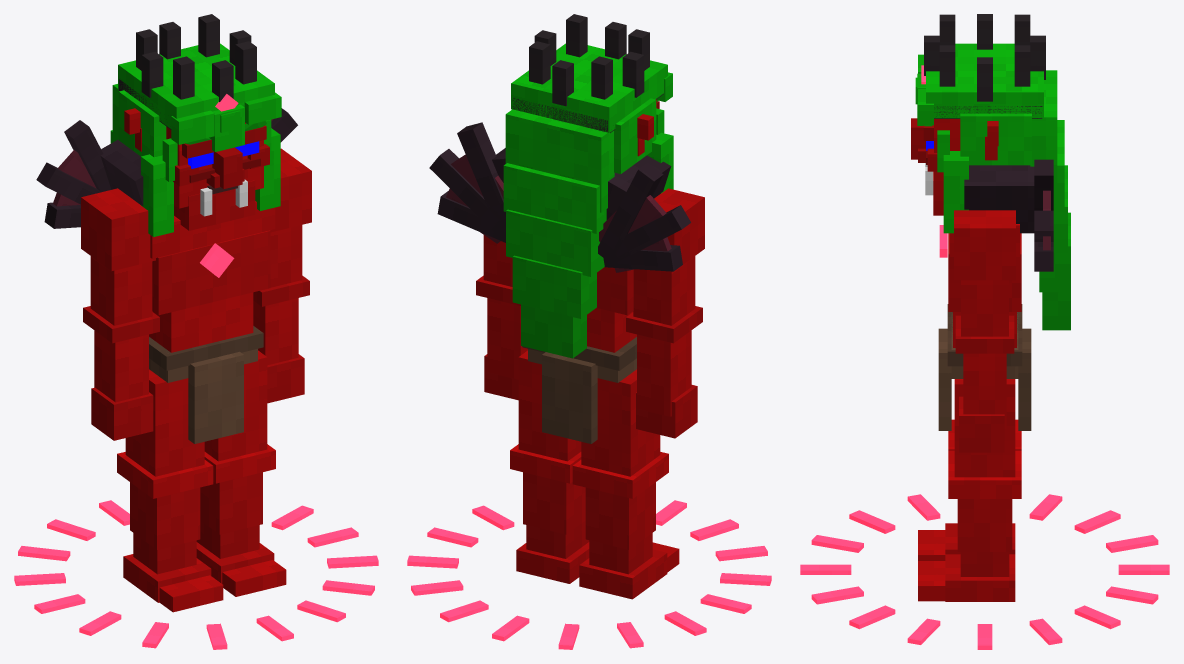
The model's file is vampire_s1_evo3.glb.
3 renders of one model, left to right at view 1: azimuth 30°, elevation 25°; view 2: azimuth 150°, elevation 25°; view 3: azimuth 270°, elevation 25°, orthographic.
Parts seen in each view (by area): view 1: Head, Torso, LegR, ArmR, LegL, ArmL, Root; view 2: Head, Torso, LegR, ArmR, LegL, Root, ArmL; view 3: Head, ArmL, LegL, Torso, Root, LegR.
Boxes of the visible parts, <box> form: Head: <box>110,14,281,236</box>; Torso: <box>36,108,297,443</box>; LegR: <box>117,369,223,612</box>; ArmR: <box>81,188,159,440</box>; LegL: <box>196,350,286,596</box>; ArmL: <box>253,148,311,403</box>; Root: <box>14,500,378,649</box>; Head: <box>503,14,673,358</box>; Torso: <box>429,122,690,443</box>; LegR: <box>572,369,679,599</box>; ArmR: <box>626,188,704,438</box>; LegL: <box>510,350,589,583</box>; Root: <box>407,500,771,649</box>; ArmL: <box>476,235,527,400</box>; Head: <box>911,14,1070,330</box>; ArmL: <box>954,210,1015,452</box>; LegL: <box>918,379,1021,601</box>; Torso: <box>938,159,1053,430</box>; Root: <box>800,494,1169,649</box>; LegR: <box>918,419,1021,560</box>.
Size of the model in its own units: 1.16 by 1.87 by 1.16.
Materials: 28 (28 with a texture image).
